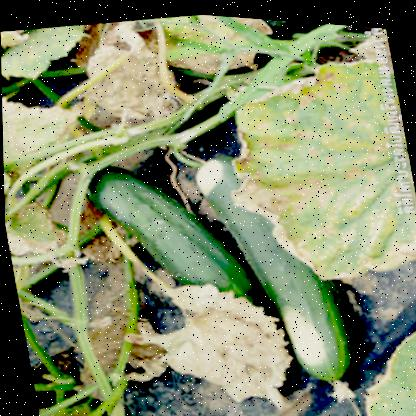DownyMildew: (242, 79, 405, 282)
